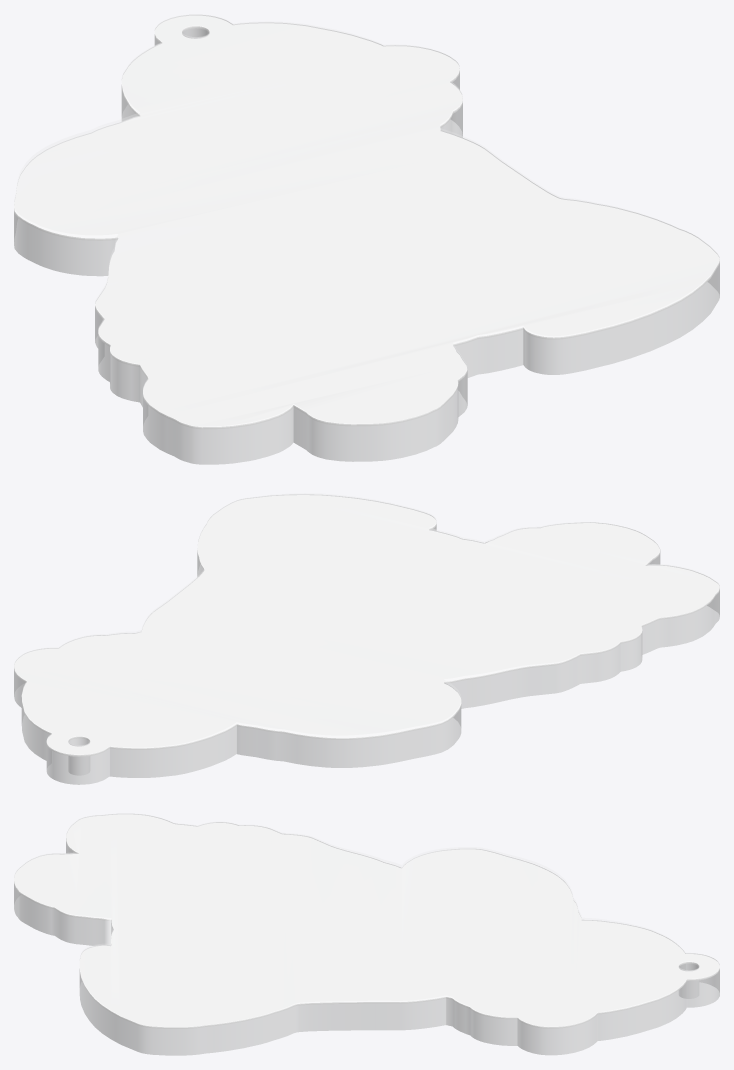
The model's file is 1_3_keychain_3mm_puffy.glb.
3 views of the same model, one above another, from view 1: azimuth 30°, elevation 25°; view 2: azimuth 150°, elevation 25°; view 3: azimuth 270°, elevation 25° (orthographic). The views are drawn at different scales.
Visible parts, largest first — view 1: KeychainBody, PrintLayer, AcrylicFrontCap, AcrylicShell, WhiteMaskLayer; view 2: KeychainBody, PrintLayer, AcrylicFrontCap, AcrylicShell, WhiteMaskLayer; view 3: KeychainBody, PrintLayer, AcrylicFrontCap, AcrylicShell, WhiteMaskLayer.
Boxes of the visible parts, bbox=[...] form: KeychainBody: bbox=[14, 15, 719, 464]; PrintLayer: bbox=[14, 15, 719, 428]; AcrylicFrontCap: bbox=[14, 14, 719, 426]; AcrylicShell: bbox=[14, 27, 719, 464]; WhiteMaskLayer: bbox=[14, 27, 719, 429]; KeychainBody: bbox=[14, 494, 719, 784]; PrintLayer: bbox=[14, 495, 719, 755]; AcrylicFrontCap: bbox=[14, 493, 719, 754]; AcrylicShell: bbox=[14, 525, 719, 784]; WhiteMaskLayer: bbox=[14, 524, 719, 756]; KeychainBody: bbox=[14, 814, 719, 1055]; PrintLayer: bbox=[14, 814, 719, 1027]; AcrylicFrontCap: bbox=[14, 813, 719, 1026]; AcrylicShell: bbox=[14, 841, 719, 1055]; WhiteMaskLayer: bbox=[14, 842, 719, 1028].
Size of the model in its own units: 0.0487 by 0.0033 by 0.0679.
5 materials, 2 textured.
